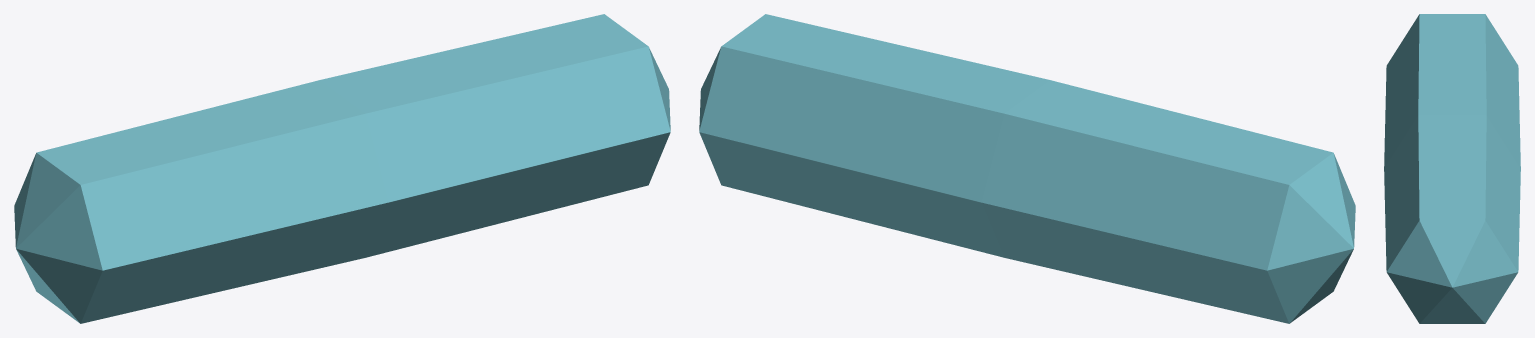
The model's file is Glass_Log.glb.
3 views of the same model, side by side, from view 1: azimuth 30°, elevation 25°; view 2: azimuth 150°, elevation 25°; view 3: azimuth 270°, elevation 25° (orthographic). The views are drawn at different scales.
Parts seen in each view (by area): view 1: Glass_Log_0; view 2: Glass_Log_0; view 3: Glass_Log_0.
Part boxes in pixels (x1,y1,x2,y2): Glass_Log_0: [14, 14, 670, 323]; Glass_Log_0: [699, 14, 1355, 323]; Glass_Log_0: [1384, 14, 1520, 323].
Size of the model in its own units: 2.3 by 0.485 by 0.56.
